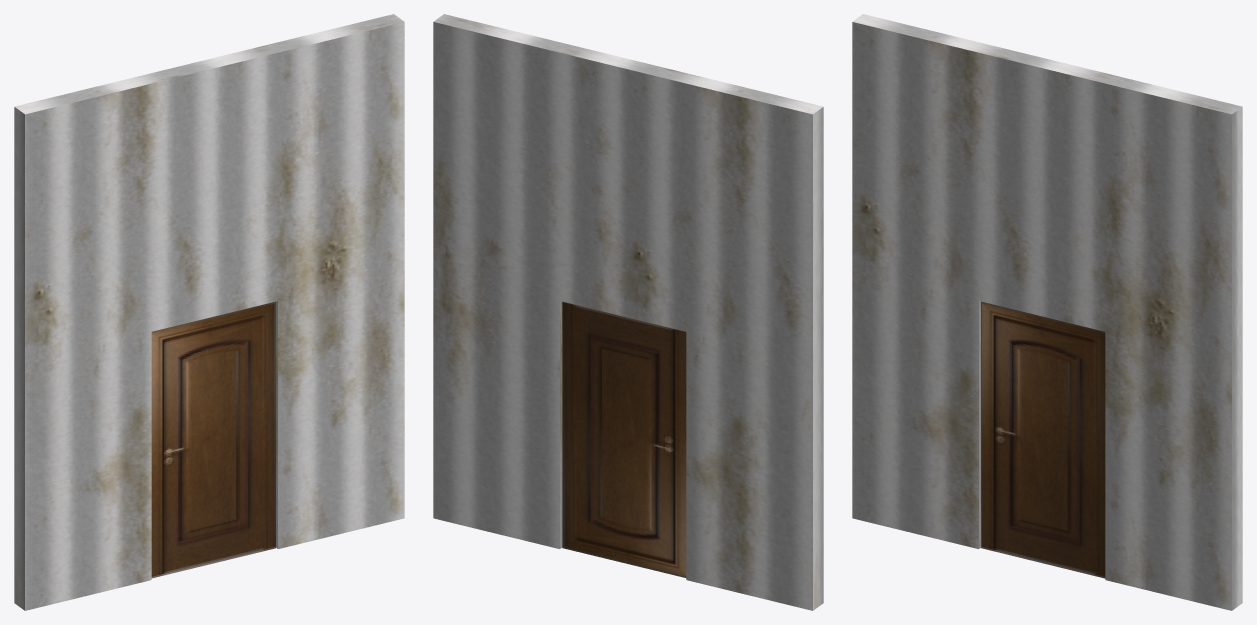
The model's file is stained wall with Door.fbx.
The picture shows the model from 3 angles, left to right: view 1: azimuth 30°, elevation 25°; view 2: azimuth 150°, elevation 25°; view 3: azimuth 330°, elevation 25°; orthographic projection.
Parts seen in each view (by area): view 1: Stained wall with door, Cube; view 2: Stained wall with door, Cube; view 3: Stained wall with door, Cube.
Part boxes in pixels (left/top/right/bottom): Stained wall with door: left=14, top=14, right=404, bottom=610; Cube: left=151, top=301, right=275, bottom=578; Stained wall with door: left=433, top=14, right=823, bottom=610; Cube: left=562, top=301, right=686, bottom=577; Stained wall with door: left=852, top=14, right=1242, bottom=610; Cube: left=981, top=301, right=1105, bottom=578.
Size of the model in its own units: 400 by 501 by 19.55.
